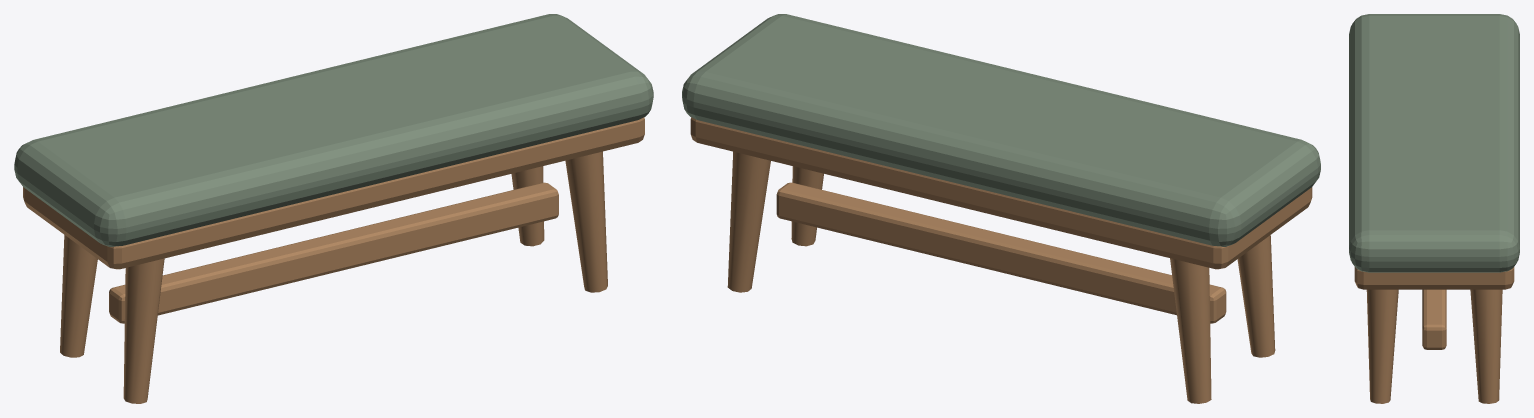
The model's file is chair-bench.glb.
The picture shows the model from 3 angles, left to right: view 1: azimuth 30°, elevation 25°; view 2: azimuth 150°, elevation 25°; view 3: azimuth 270°, elevation 25°; orthographic projection. The views are drawn at different scales.
Visible parts, largest first — view 1: chair-bench; view 2: chair-bench; view 3: chair-bench.
Part boxes in pixels (left/top/right/bottom): chair-bench: left=14, top=14, right=653, bottom=403; chair-bench: left=682, top=14, right=1320, bottom=403; chair-bench: left=1349, top=14, right=1519, bottom=403.
Bounding box in the file's own units: 1.25 × 0.46 × 0.39.
